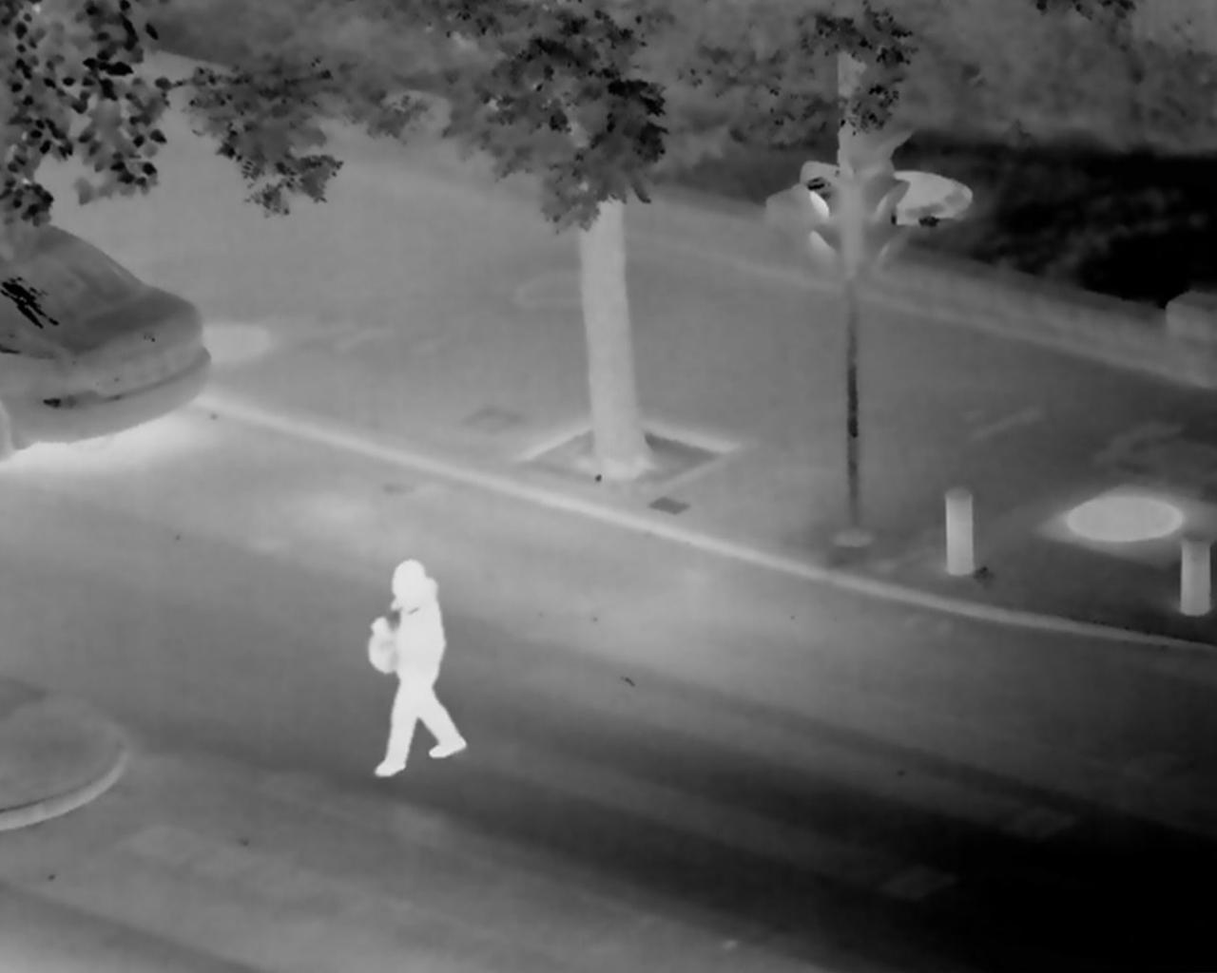person: (357, 550, 485, 775)
